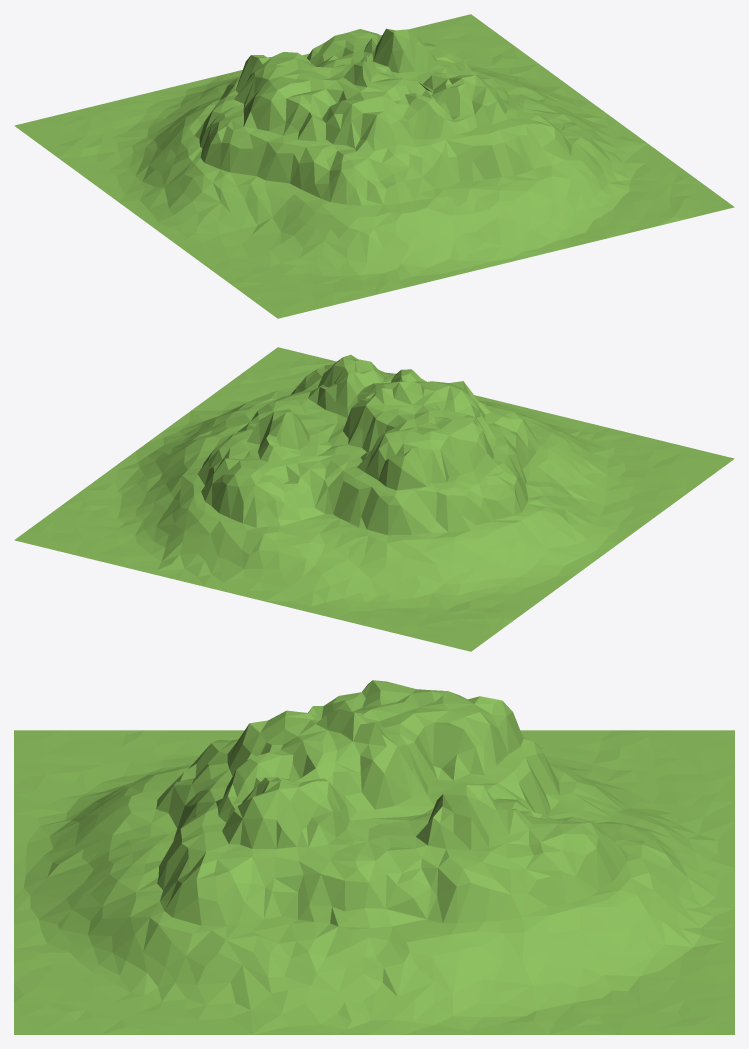
Rendered from MT_Terrain_L_c_21_LOD.fbx.
3 views of the same model, one above another, from view 1: azimuth 30°, elevation 25°; view 2: azimuth 150°, elevation 25°; view 3: azimuth 270°, elevation 25° (orthographic). The views are drawn at different scales.
Parts seen in each view (by area): view 1: MT_Terrain_L_c_21_LOD0; view 2: MT_Terrain_L_c_21_LOD0; view 3: MT_Terrain_L_c_21_LOD0.
Boxes of the visible parts, x1=… form: MT_Terrain_L_c_21_LOD0: x1=14, y1=14, x2=734, y2=318; MT_Terrain_L_c_21_LOD0: x1=14, y1=347, x2=734, y2=651; MT_Terrain_L_c_21_LOD0: x1=14, y1=680, x2=734, y2=1034.
Size of what is drawn, in the model's own units: 10000 by 2431 by 10000.
